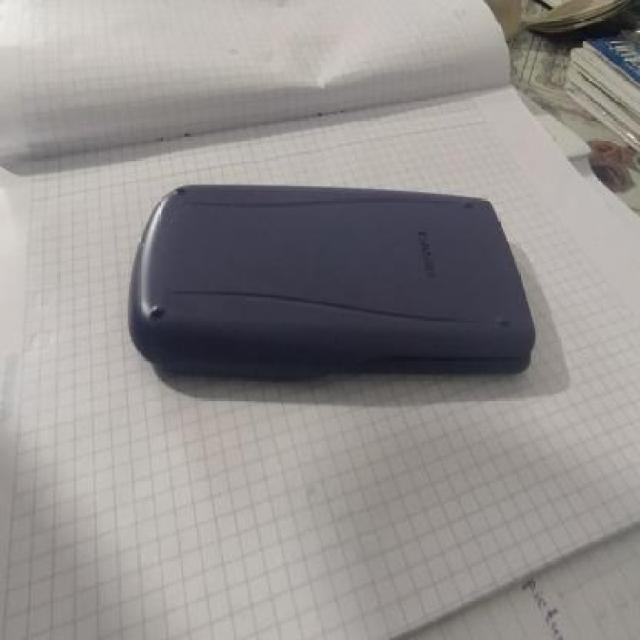Calculator: (124, 180, 536, 374)
